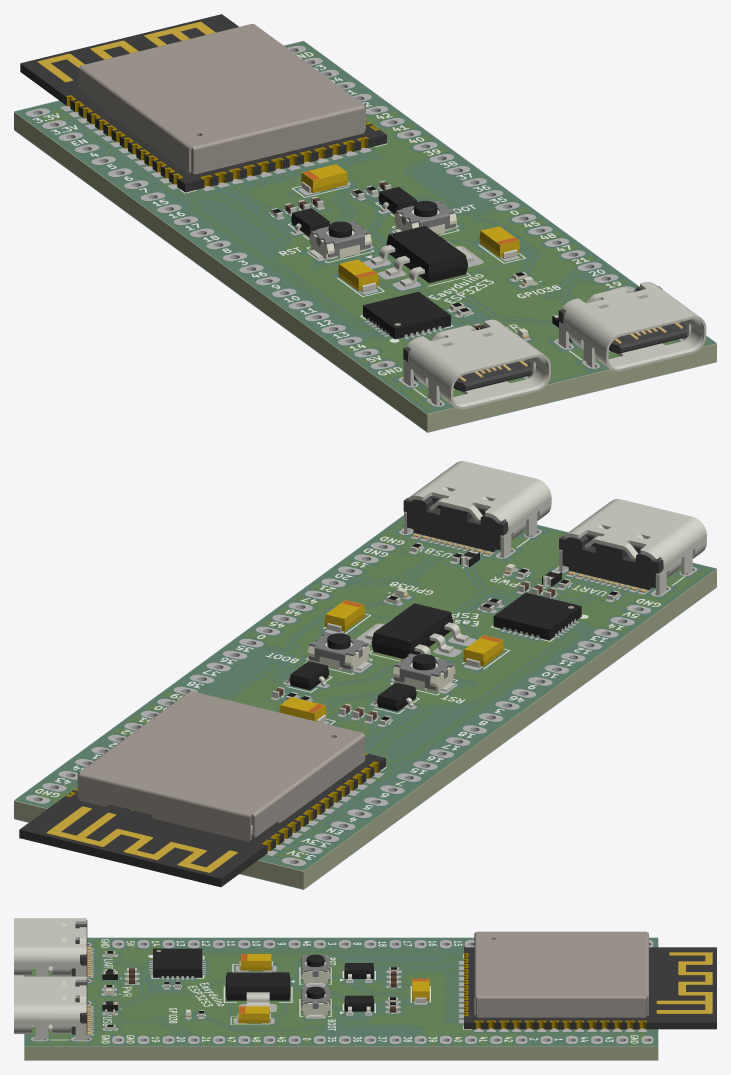
Rendered from board.glb.
3 views of the same model, one above another, from view 1: azimuth 30°, elevation 25°; view 2: azimuth 150°, elevation 25°; view 3: azimuth 270°, elevation 25° (orthographic). The views are drawn at different scales.
Parts seen in each view (by area): view 1: board_soldermask (×2), board_PCB, ESP32-WROOM-32E_shielding_case_20210301, board_copper, USB_C_Receptacle_16P_TopMnt_Horizontal_GCT_USB4105-xx-A (×2), board_pad, uid__2428^DesignRootModel_PCB_ESP32-S3-WROOM-1_V1(2)_PCB_ESP, board_silkscreen, SOT-223, SW_Push_SPST_NO_Alps_SKRK (×2), CP_EIA_3216_10_Kemet_I (×3), QFN-28-1EP_5x5mm_Pitch0.5mm (+2 smaller); view 2: board_soldermask, board_PCB, ESP32-WROOM-32E_shielding_case_20210301, USB_C_Receptacle_16P_TopMnt_Horizontal_GCT_USB4105-xx-A (×2), board_copper, uid__2428^DesignRootModel_PCB_ESP32-S3-WROOM-1_V1(2)_PCB_ESP, board_pad, board_silkscreen, SW_Push_SPST_NO_Alps_SKRK (×2), SOT-223, QFN-28-1EP_5x5mm_Pitch0.5mm, CP_EIA_3216_10_Kemet_I (×3) (+2 smaller); view 3: board_soldermask (×2), board_PCB, ESP32-WROOM-32E_shielding_case_20210301, board_copper, USB_C_Receptacle_16P_TopMnt_Horizontal_GCT_USB4105-xx-A (×2), uid__2428^DesignRootModel_PCB_ESP32-S3-WROOM-1_V1(2)_PCB_ESP, board_pad, board_silkscreen, SOT-223, SW_Push_SPST_NO_Alps_SKRK (×2), CP_EIA_3216_10_Kemet_I (×3), trace_1^Submodel-MINI-ANT-TYPEB_668419613_part_DesignRootMod (+2 smaller).
Part boxes in pixels (x1,y1,x2,y2): board_soldermask (×2): (14,41,716,432); board_PCB: (14,42,716,432); ESP32-WROOM-32E_shielding_case_20210301: (78,24,365,174); board_copper: (40,52,708,410); USB_C_Receptacle_16P_TopMnt_Horizontal_GCT_USB4105-xx-A (×2): (403,281,706,409); board_pad: (25,46,683,406); uid__2428^DesignRootModel_PCB_ESP32-S3-WROOM-1_V1(2)_PCB_ESP: (20,14,386,192); board_silkscreen: (32,52,621,397); SOT-223: (370,225,473,286); SW_Push_SPST_NO_Alps_SKRK (×2): (309,200,456,259); CP_EIA_3216_10_Kemet_I (×3): (301,164,519,292); QFN-28-1EP_5x5mm_Pitch0.5mm: (363,291,450,339); board_soldermask: (14,515,716,870); board_PCB: (14,516,716,889); ESP32-WROOM-32E_shielding_case_20210301: (77,691,365,841); USB_C_Receptacle_16P_TopMnt_Horizontal_GCT_USB4105-xx-A (×2): (403,461,706,595); board_copper: (33,520,708,859); uid__2428^DesignRootModel_PCB_ESP32-S3-WROOM-1_V1(2)_PCB_ESP: (19,754,385,887); board_pad: (25,528,697,865); board_silkscreen: (35,536,685,859); SW_Push_SPST_NO_Alps_SKRK (×2): (307,632,455,692); SOT-223: (365,603,468,659); QFN-28-1EP_5x5mm_Pitch0.5mm: (493,592,581,640); CP_EIA_3216_10_Kemet_I (×3): (279,600,503,722); board_soldermask (×2): (24,937,658,1060); board_PCB: (24,939,658,1060); ESP32-WROOM-32E_shielding_case_20210301: (474,931,648,1017); board_copper: (29,940,644,1044); USB_C_Receptacle_16P_TopMnt_Horizontal_GCT_USB4105-xx-A (×2): (14,918,91,1040); uid__2428^DesignRootModel_PCB_ESP32-S3-WROOM-1_V1(2)_PCB_ESP: (464,947,716,1029); board_pad: (31,940,653,1043); board_silkscreen: (49,939,638,1043); SOT-223: (226,972,290,1008); SW_Push_SPST_NO_Alps_SKRK (×2): (301,954,329,1017); CP_EIA_3216_10_Kemet_I (×3): (237,954,429,1023); trace_1^Submodel-MINI-ANT-TYPEB_668419613_part_DesignRootMod: (656,952,712,1013).
Size of the model in its own units: 0.0259 by 0.00495 by 0.0708.
